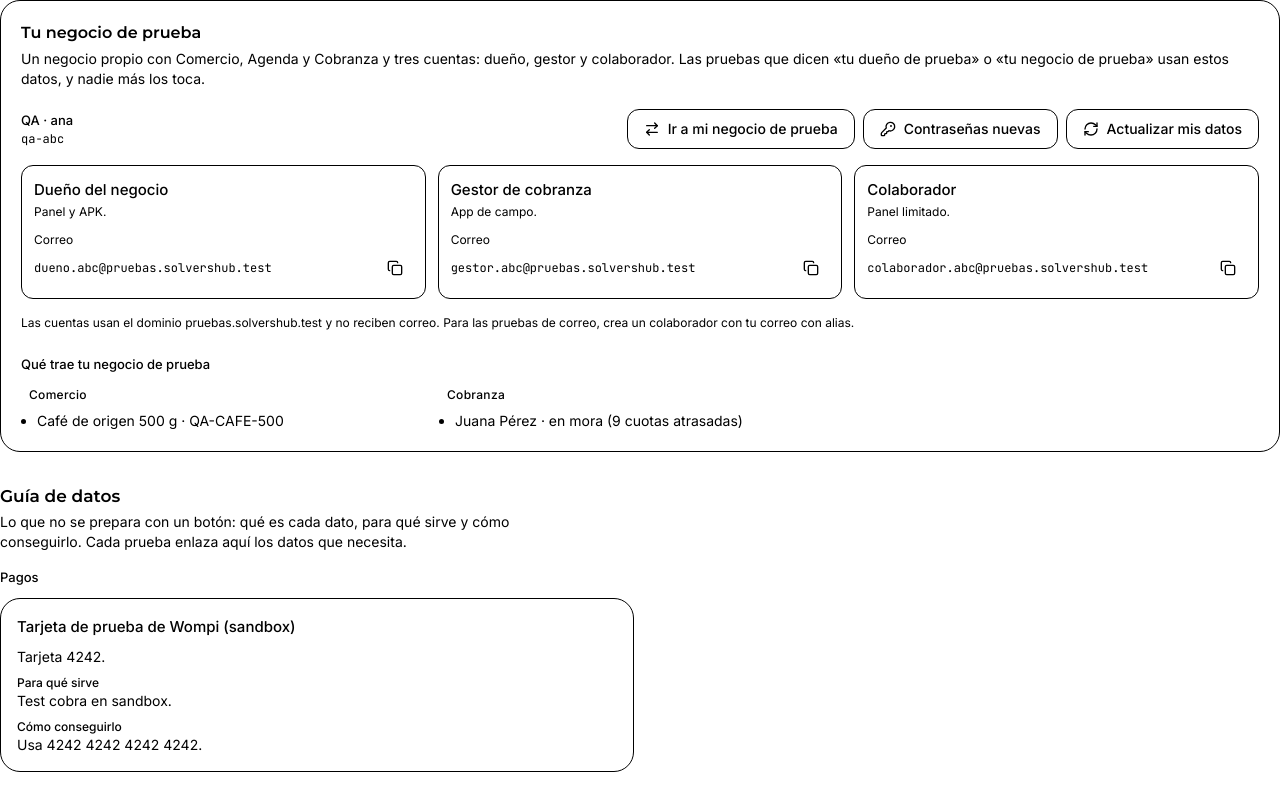
Datos de prueba › con datos listos no muestra contraseñas y las nuevas piden confirmación
Click the button "Contraseñas nuevas": (960, 129) [863, 109, 1058, 149]
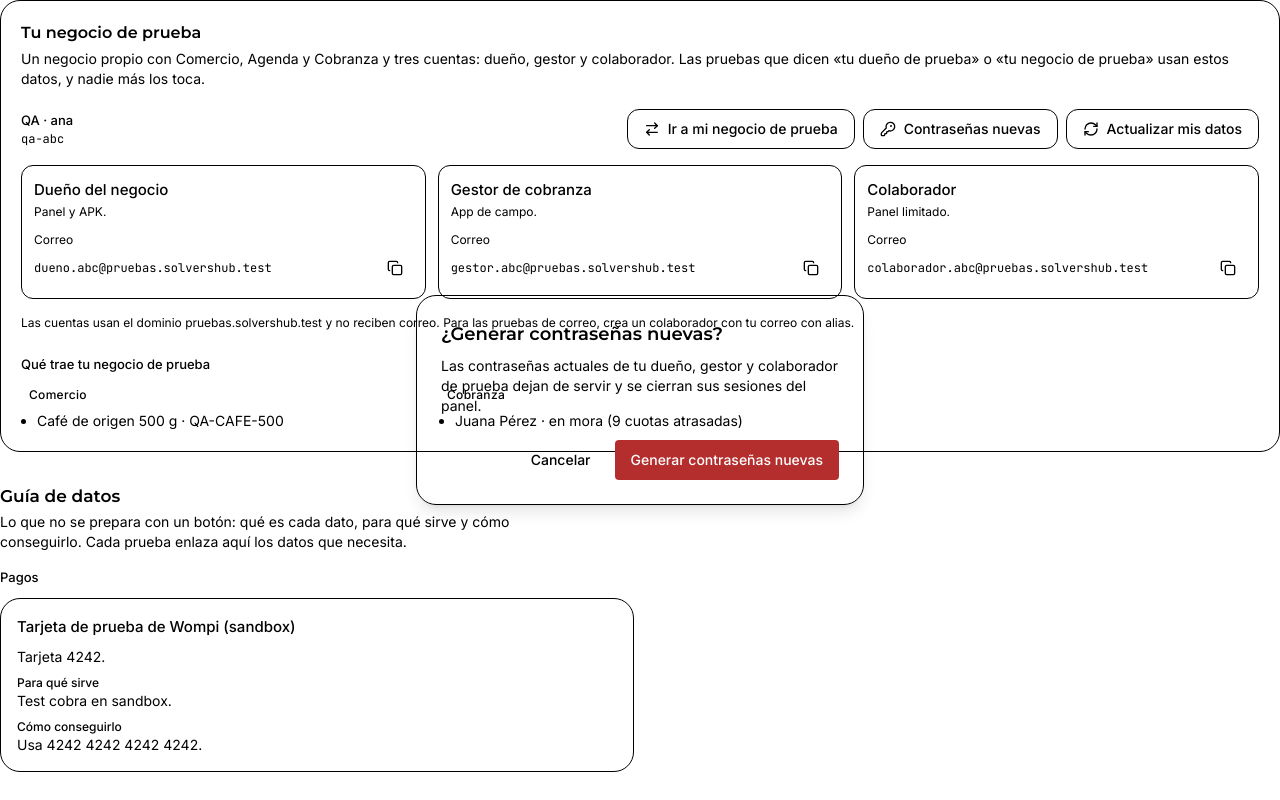
Click the button "Generar contraseñas nuevas": (727, 460) [614, 440, 839, 480]
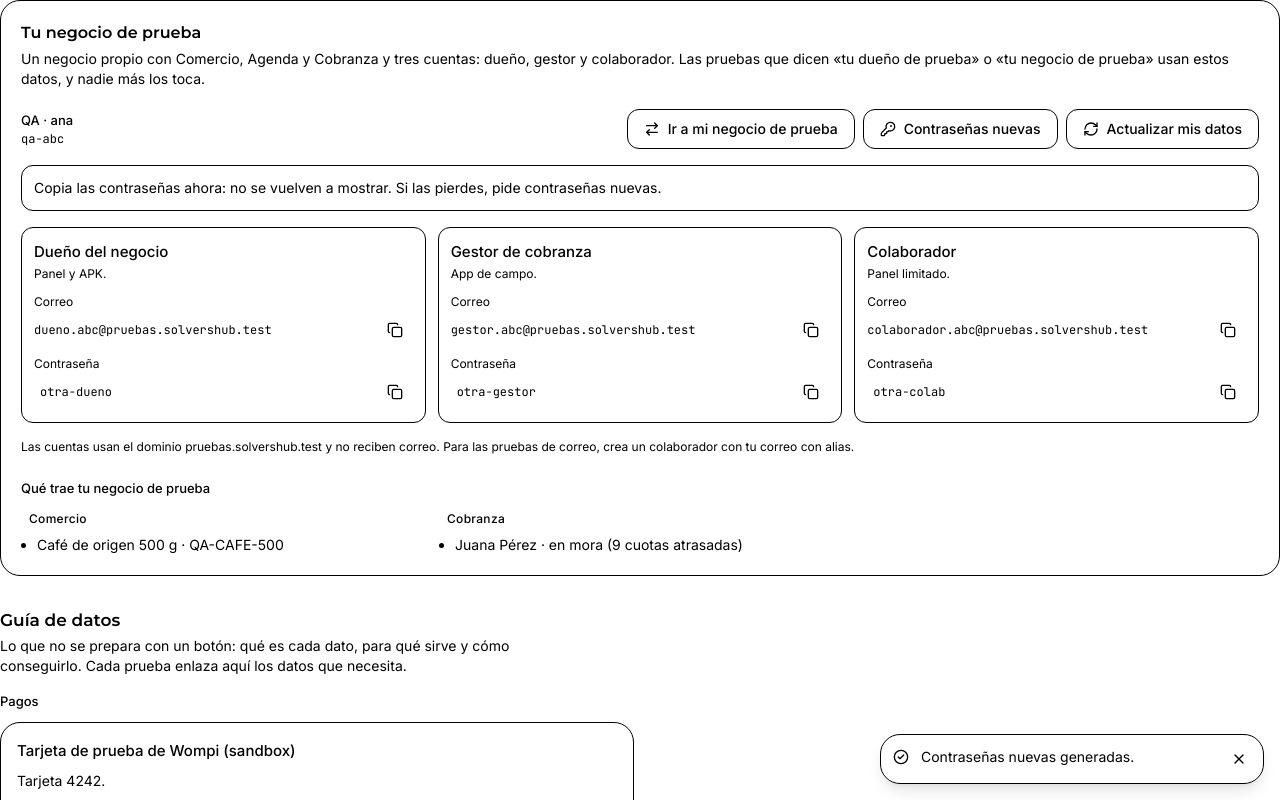
Now the text "otra-dueno" is shown, box [40, 384, 112, 400]
